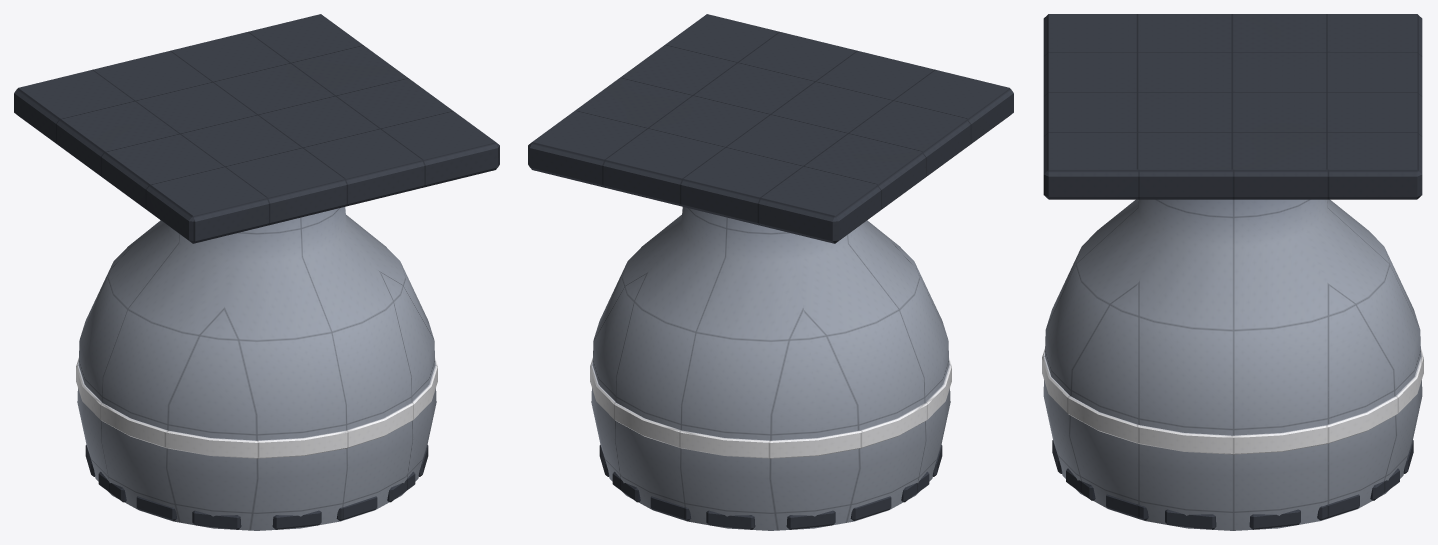
Rendered from R4M_HoverEngine_LOD1.glb.
3 views of the same model, side by side, from view 1: azimuth 30°, elevation 25°; view 2: azimuth 150°, elevation 25°; view 3: azimuth 270°, elevation 25° (orthographic). The views are drawn at different scales.
Visible parts, largest first — view 1: R4M_HoverEngine_LOD1; view 2: R4M_HoverEngine_LOD1; view 3: R4M_HoverEngine_LOD1.
Part boxes in pixels (x1,y1,x2,y2): R4M_HoverEngine_LOD1: (14,14,499,530); R4M_HoverEngine_LOD1: (528,14,1013,530); R4M_HoverEngine_LOD1: (1042,14,1423,530).
Size of the model in its own units: 0.524 by 0.56 by 0.524.
Materials: 5 (4 with a texture image).
